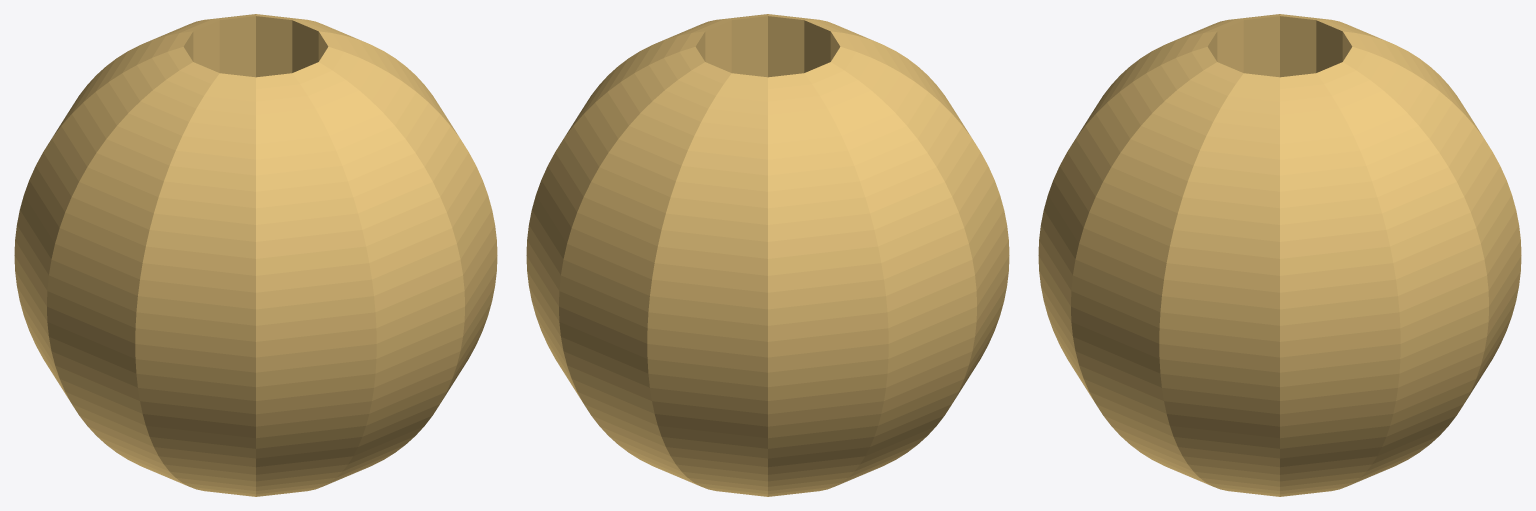
The model's file is spacer-04-gold.glb.
The picture shows the model from 3 angles, left to right: view 1: azimuth 30°, elevation 25°; view 2: azimuth 150°, elevation 25°; view 3: azimuth 270°, elevation 25°; orthographic projection.
Parts seen in each view (by area): view 1: Spacer with through bore.006; view 2: Spacer with through bore.006; view 3: Spacer with through bore.006.
Boxes of the visible parts, left/top/right/bottom form: Spacer with through bore.006: left=14, top=14, right=497, bottom=496; Spacer with through bore.006: left=526, top=14, right=1009, bottom=496; Spacer with through bore.006: left=1038, top=14, right=1521, bottom=496.
Bounding box in the file's own units: 0.004 × 0.00382 × 0.004.
